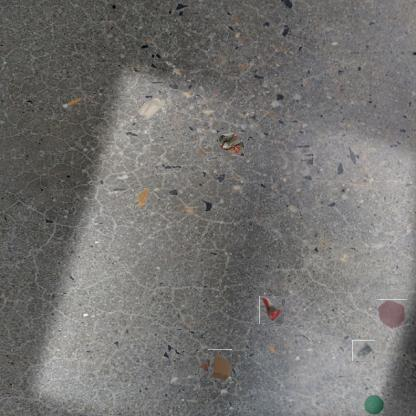dirty: (208, 349, 232, 382), (136, 94, 166, 120), (258, 298, 284, 323), (218, 132, 244, 156), (362, 392, 386, 416), (352, 340, 374, 362), (60, 96, 82, 110)
liquid: (378, 299, 408, 330), (134, 187, 150, 209)
